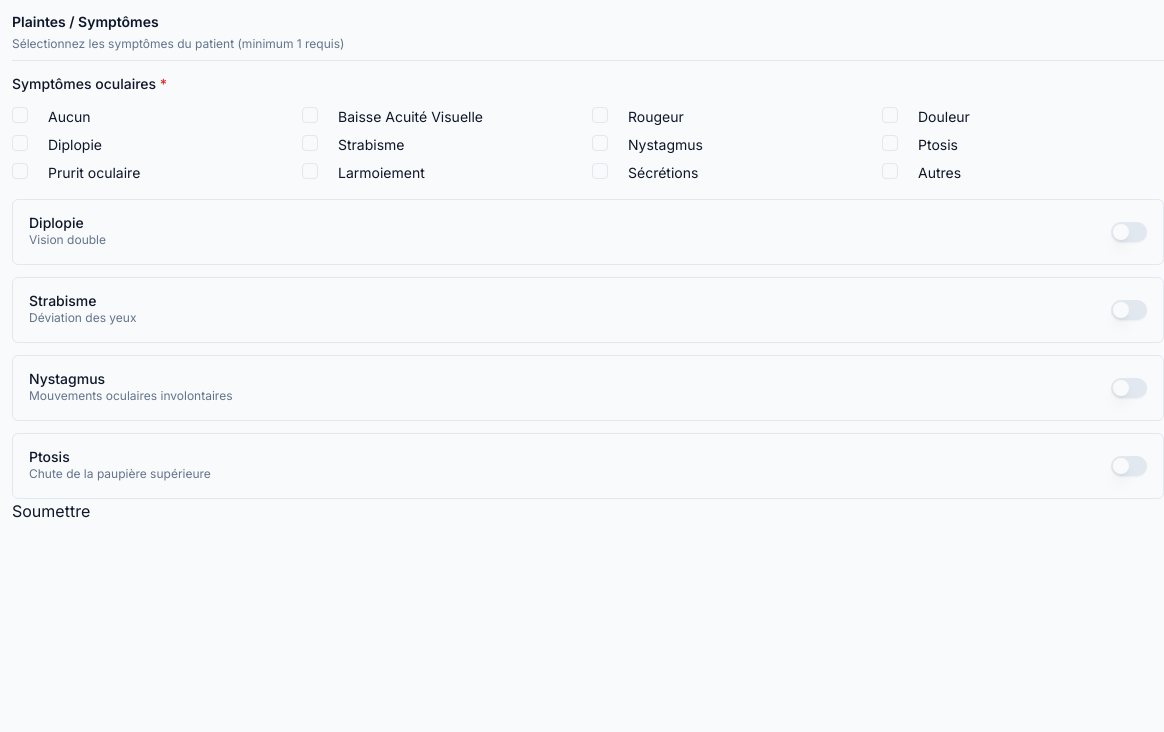
it: PlaintesForm › strabisme conditionnel › affiche Type et Œil concerné quand le switch Strabisme est activé
What coordinates should you click on to do the following:
click the switch named "strabisme" in the row of "Déviation des yeux"
I would click on:
 (1129, 310)
Its box is [1111,300,1147,320].
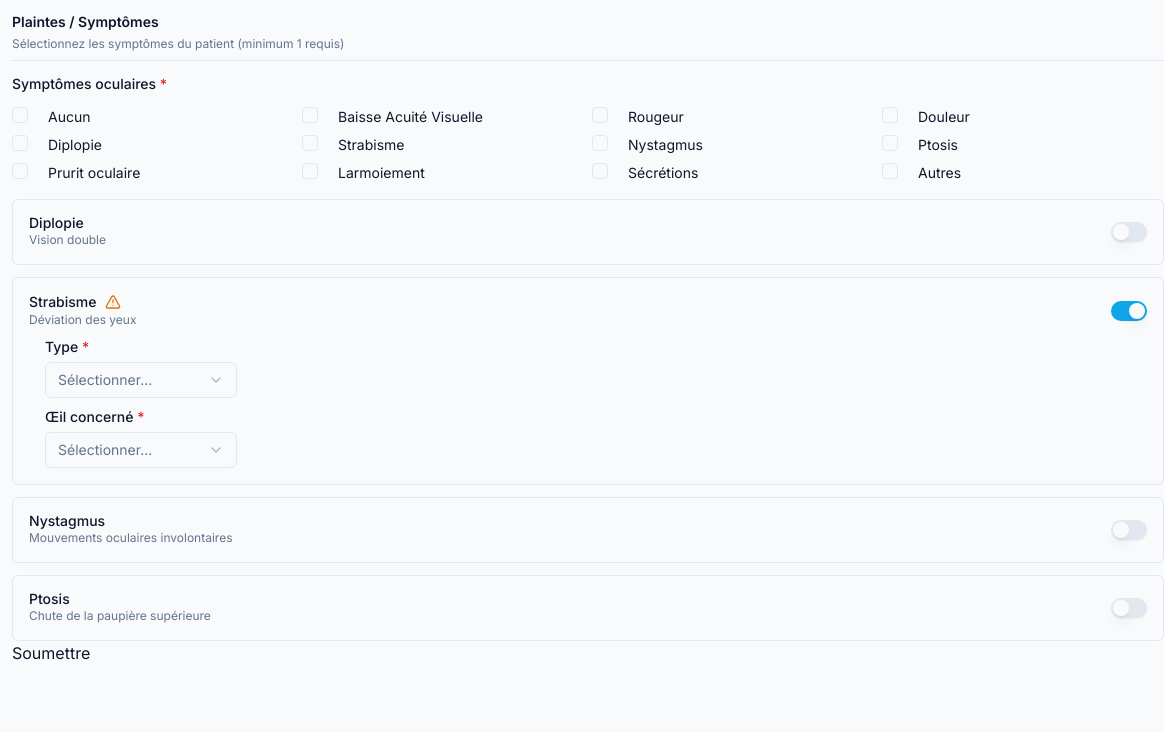
Expected: the dropdown named "type" is shown, [45,362,237,398]
Expected: the dropdown named "œil concerné" is shown, [45,432,237,468]
